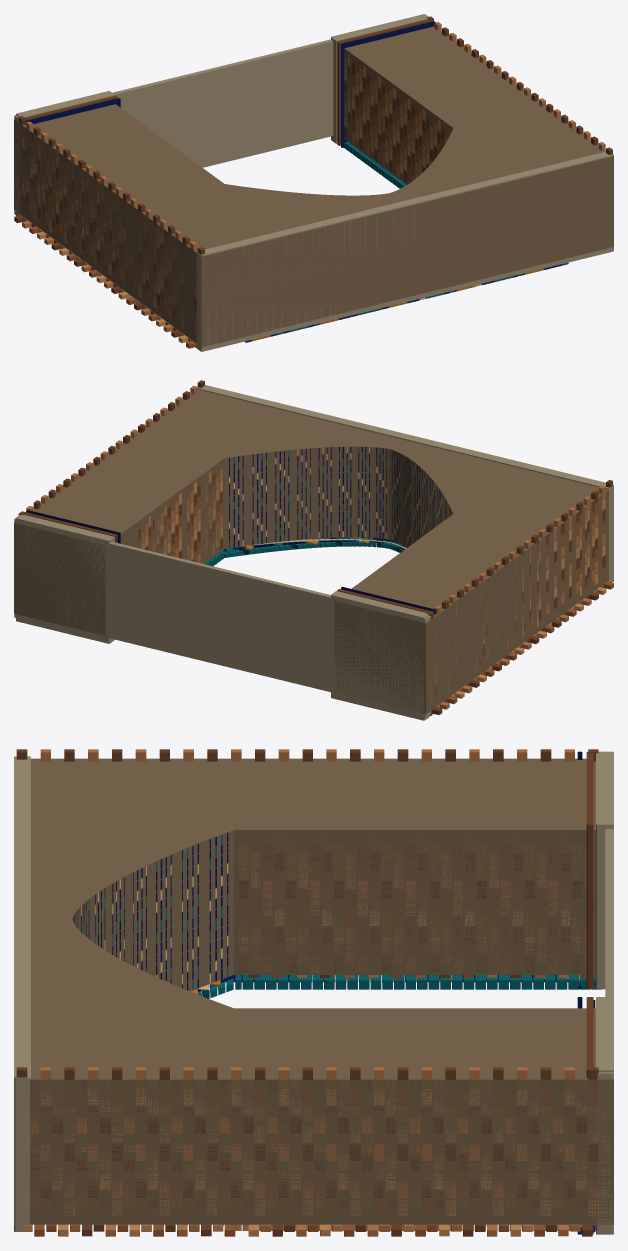
The model's file is mihrab_qom.obj.
3 views of the same model, one above another, from view 1: azimuth 30°, elevation 25°; view 2: azimuth 150°, elevation 25°; view 3: azimuth 270°, elevation 25° (orthographic). The views are drawn at different scales.
Parts seen in each view (by area): view 1: CORE_L_Monumental_Pier, CORE_Crown_Header, CORE_R_Monumental_Pier, THRESHOLD_Stone_Sill, CROWN_Front_Cornice, CORE_L_Arch_Spandrel, CORE_R_Arch_Spandrel, BASE_MOULDING_R_1, BASE_MOULDING_R_3, BASE_MOULDING_R_2, BASE_MOULDING_L_1, BASE_MOULDING_L_3 (+1 smaller); view 2: CORE_L_Monumental_Pier, CORE_R_Monumental_Pier, THRESHOLD_Stone_Sill, CORE_R_Arch_Spandrel, PLINTH_L_Lower_Stone, CORE_L_Arch_Spandrel, BASE_MOULDING_L_1, CORE_Crown_Header, CROWN_Front_Cornice, PLINTH_R_Lower_Stone, BASE_MOULDING_R_1; view 3: CORE_R_Monumental_Pier, CORE_L_Monumental_Pier, CORE_L_Arch_Spandrel, CORE_Crown_Header, CROWN_Front_Cornice, CORE_R_Arch_Spandrel, BASE_MOULDING_L_1, BASE_MOULDING_L_2, THRESHOLD_Stone_Sill, BASE_MOULDING_R_1, PLINTH_R_Lower_Stone.
Part boxes in pixels (x1,y1,x2,y2): CORE_L_Monumental_Pier: (14,104,293,347); CORE_Crown_Header: (183,144,613,347); CORE_R_Monumental_Pier: (344,26,613,269); THRESHOLD_Stone_Sill: (112,39,333,167); CROWN_Front_Cornice: (196,151,613,351); CORE_L_Arch_Spandrel: (225,184,387,220); CORE_R_Arch_Spandrel: (393,128,503,191); BASE_MOULDING_R_1: (331,14,427,143); BASE_MOULDING_R_3: (341,21,435,147); BASE_MOULDING_R_2: (337,19,432,145); BASE_MOULDING_L_1: (16,91,114,216); BASE_MOULDING_L_3: (26,98,120,125); CORE_L_Monumental_Pier: (334,468,608,713); CORE_R_Monumental_Pier: (14,389,287,635); THRESHOLD_Stone_Sill: (105,541,334,692); CORE_R_Arch_Spandrel: (224,421,389,548); PLINTH_L_Lower_Stone: (331,596,431,717); CORE_L_Arch_Spandrel: (389,449,503,547); BASE_MOULDING_L_1: (331,591,429,720); CORE_Crown_Header: (188,390,607,497); CROWN_Front_Cornice: (197,385,613,582); PLINTH_R_Lower_Stone: (14,515,108,640); BASE_MOULDING_R_1: (16,514,114,643); CORE_R_Monumental_Pier: (14,1008,613,1224); CORE_L_Monumental_Pier: (31,758,595,974); CORE_L_Arch_Spandrel: (72,830,233,991); CORE_Crown_Header: (14,758,72,1224); CROWN_Front_Cornice: (14,756,30,1231); CORE_R_Arch_Spandrel: (72,919,233,1008); BASE_MOULDING_L_1: (596,751,613,989); BASE_MOULDING_L_2: (586,751,593,989); THRESHOLD_Stone_Sill: (605,828,613,997); BASE_MOULDING_R_1: (596,997,613,1234); PLINTH_R_Lower_Stone: (596,1072,613,1230).
Bounding box in the file's own units: 13.82 × 3.29 × 10.58.
